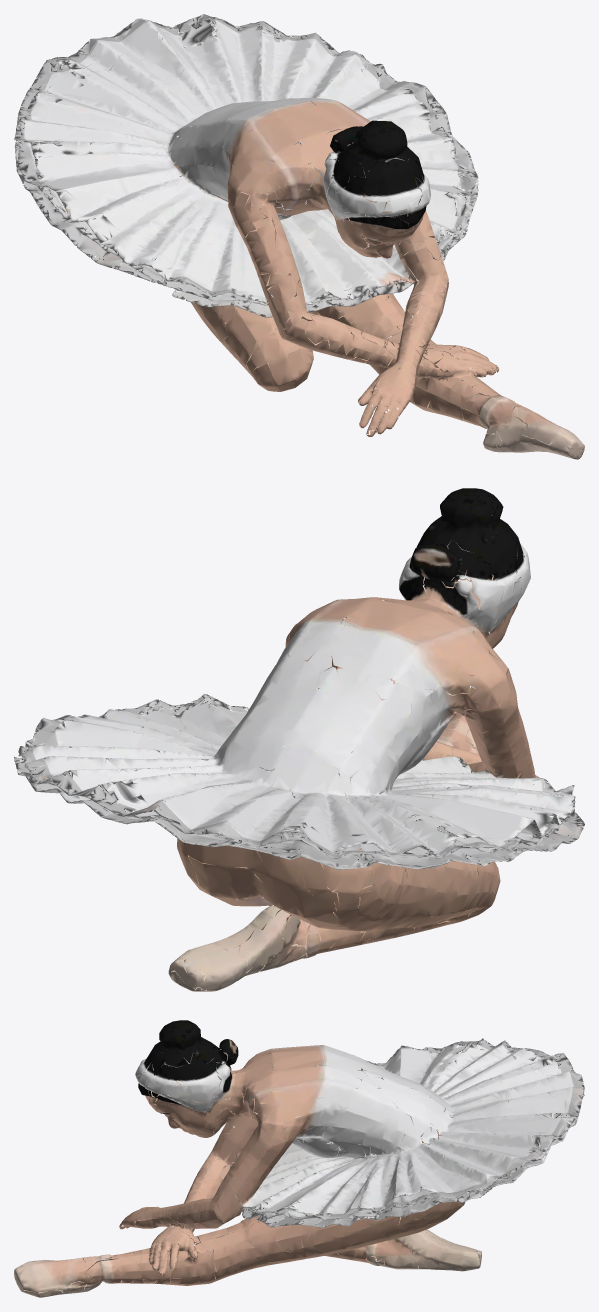
File: dancer.glb
The picture shows the model from 3 angles, top to bottom: view 1: azimuth 30°, elevation 25°; view 2: azimuth 150°, elevation 25°; view 3: azimuth 270°, elevation 25°; orthographic projection. The views are drawn at different scales.
Visible parts, largest first — view 1: darach_dancer; view 2: darach_dancer; view 3: darach_dancer.
Part boxes in pixels (x1,y1,x2,y2): darach_dancer: (14, 14, 584, 459); darach_dancer: (14, 488, 584, 991); darach_dancer: (14, 1020, 584, 1297).
Bounding box in the file's own units: 0.6809 × 0.4902 × 1.04.
Materials: 1 (1 with a texture image).
